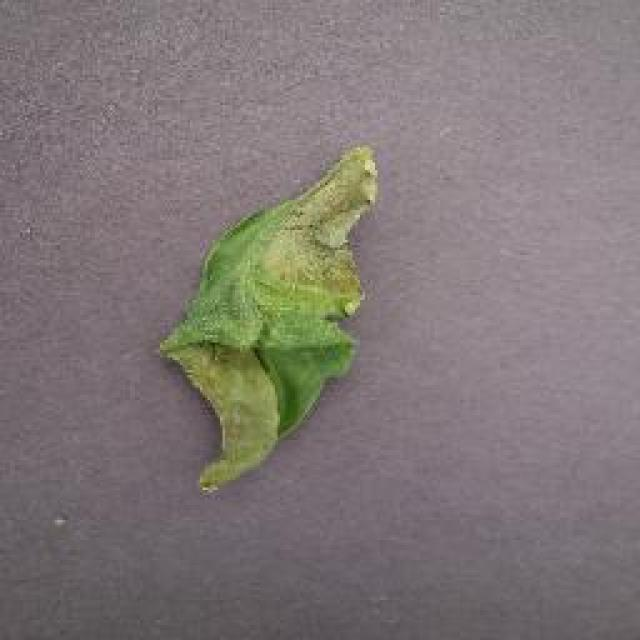Tomato Late Blight: (225, 117, 340, 445)
